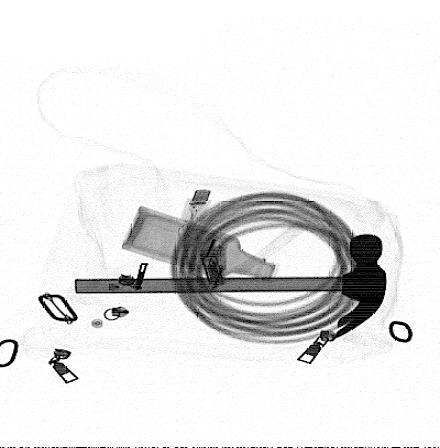Hammer: (75, 233, 387, 339)
